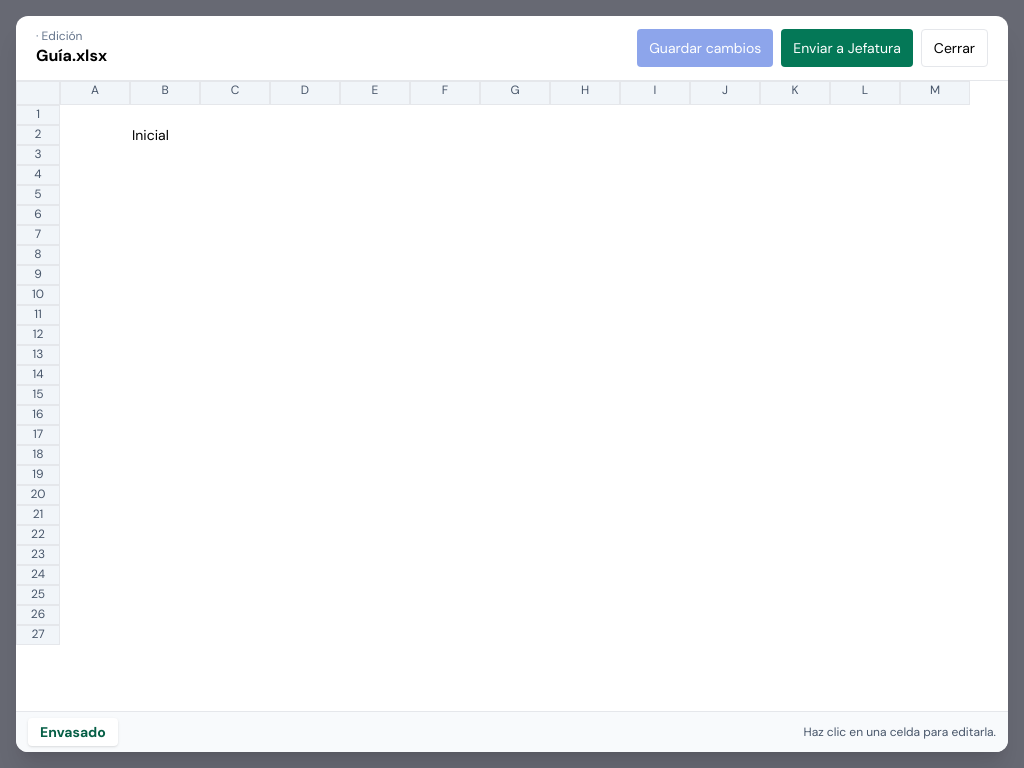
Test: escribe directamente en una celda y envía a revisión el archivo guardado
Later steps or results of the test are not shown.
Click the cell named "B2". click: (150, 135)
box: [132,126,169,144]
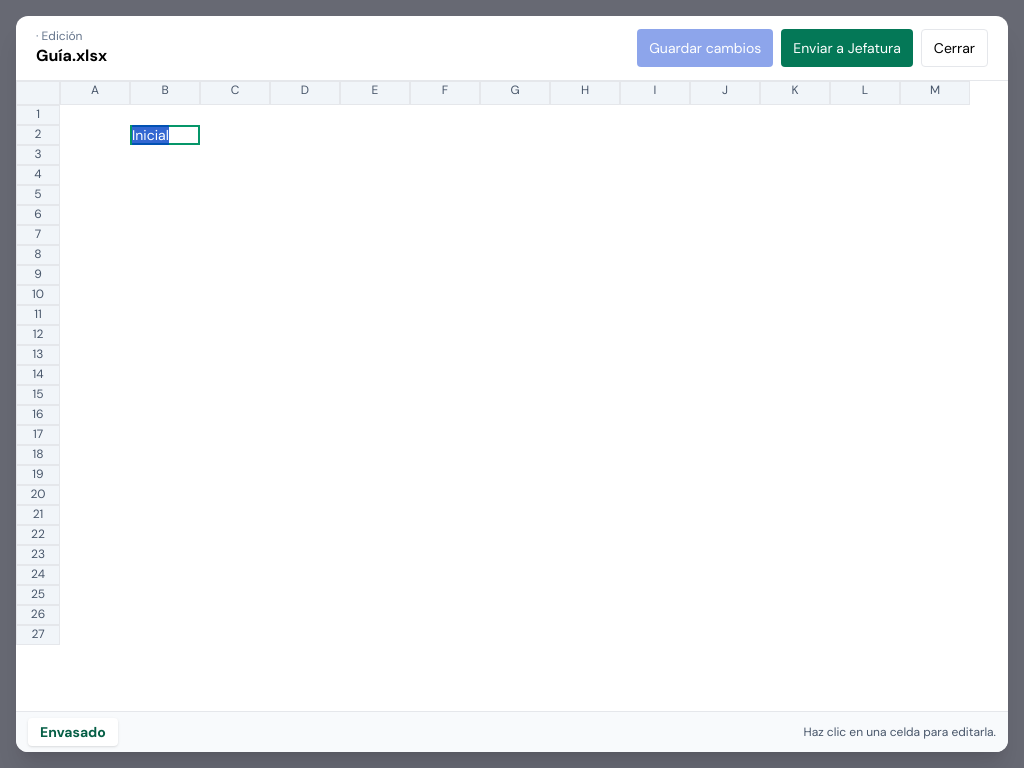
Result: the text box named "Editar B2" holds "Inicial" at [130,125,200,145]
